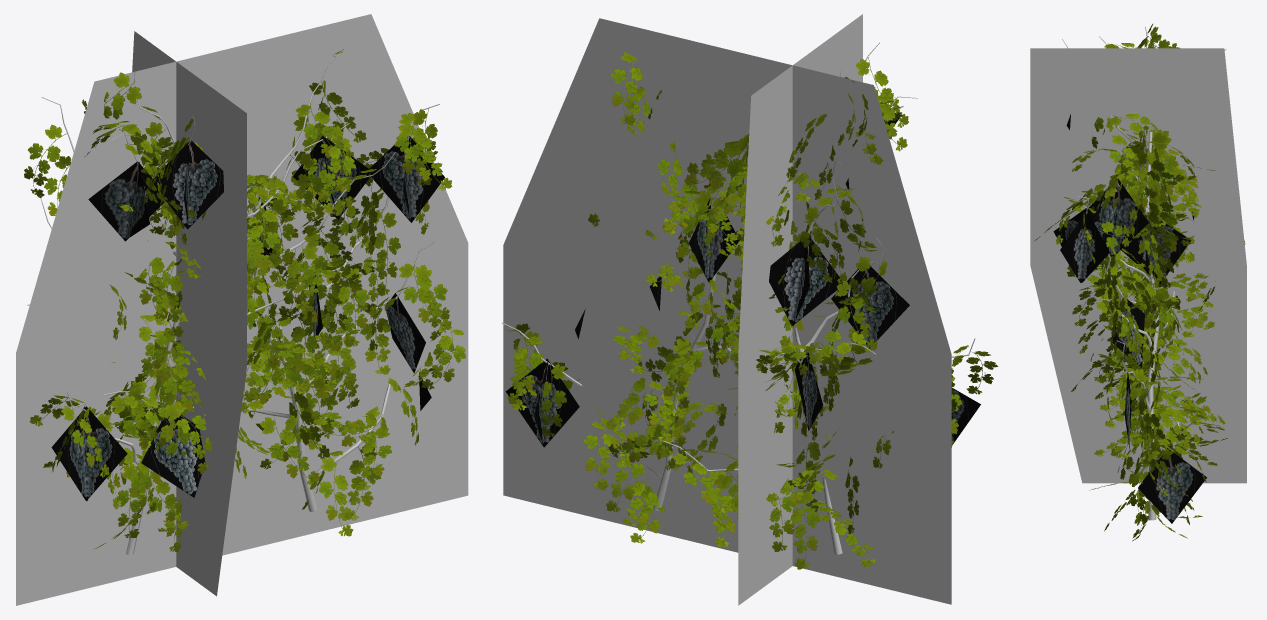
The model's file is Grape_black1.fbx.
3 renders of one model, left to right at view 1: azimuth 30°, elevation 25°; view 2: azimuth 150°, elevation 25°; view 3: azimuth 270°, elevation 25°, orthographic. The views are drawn at different scales.
Parts seen in each view (by area): view 1: Billboard, LOD0; view 2: Billboard, LOD0; view 3: Billboard, LOD0.
Part boxes in pixels (bbox=[...]): Billboard: bbox=[16, 14, 468, 605]; LOD0: bbox=[24, 49, 465, 555]; Billboard: bbox=[503, 14, 951, 605]; LOD0: bbox=[502, 42, 998, 569]; Billboard: bbox=[1030, 48, 1246, 483]; LOD0: bbox=[1034, 24, 1245, 541].
Size of what is drawn, in the model's own units: 232 by 248 by 113.
